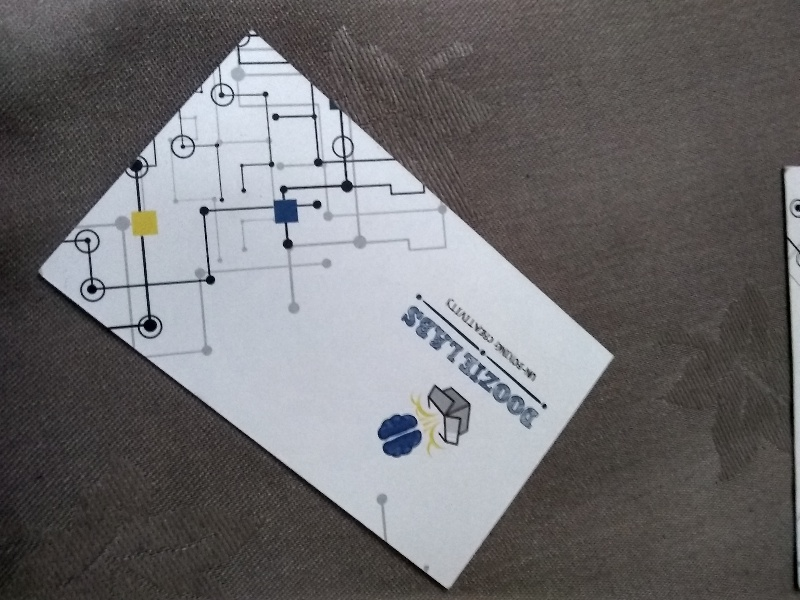back: (34, 27, 615, 592)
